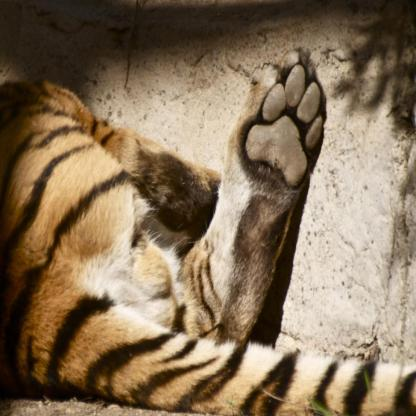Tiger: (0, 44, 415, 412)
